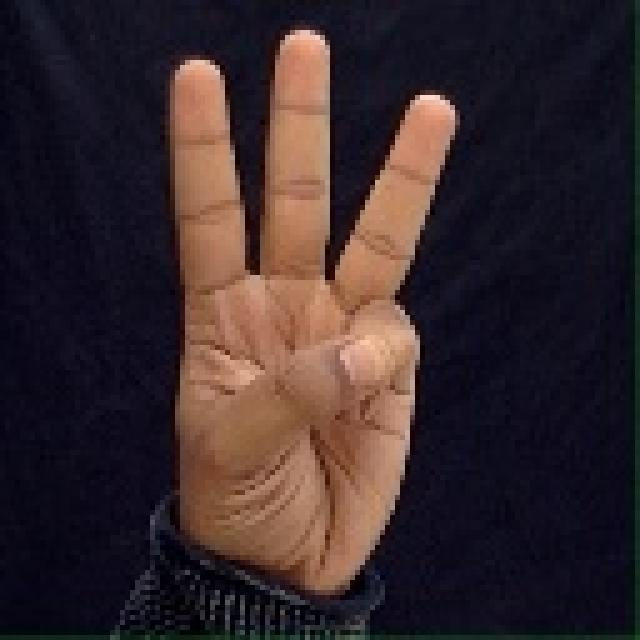Please: (156, 22, 471, 598)
